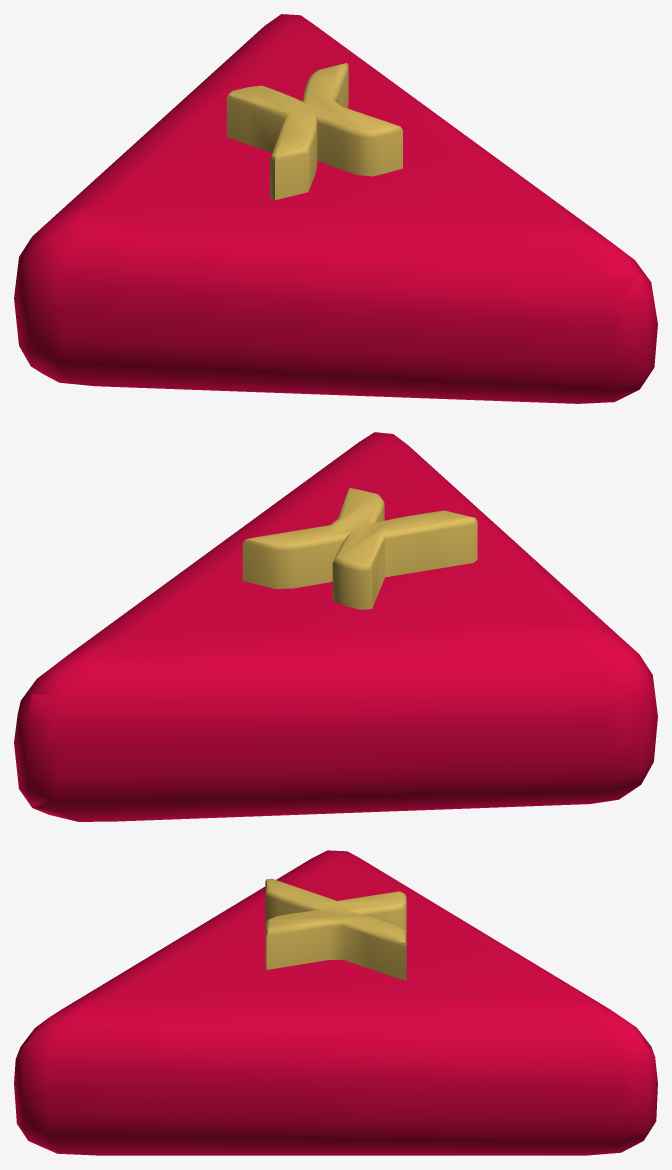
3 renders of one model, top to bottom at view 1: azimuth 30°, elevation 25°; view 2: azimuth 150°, elevation 25°; view 3: azimuth 270°, elevation 25°, orthographic. The views are drawn at different scales.
Visible parts, largest first — view 1: transform7; view 2: transform7; view 3: transform7.
Part boxes in pixels (bbox=[...]): transform7: bbox=[14, 14, 657, 403]; transform7: bbox=[14, 432, 657, 821]; transform7: bbox=[14, 850, 657, 1155].
Size of the model in its own units: 1 by 0.4557 by 1.37.
